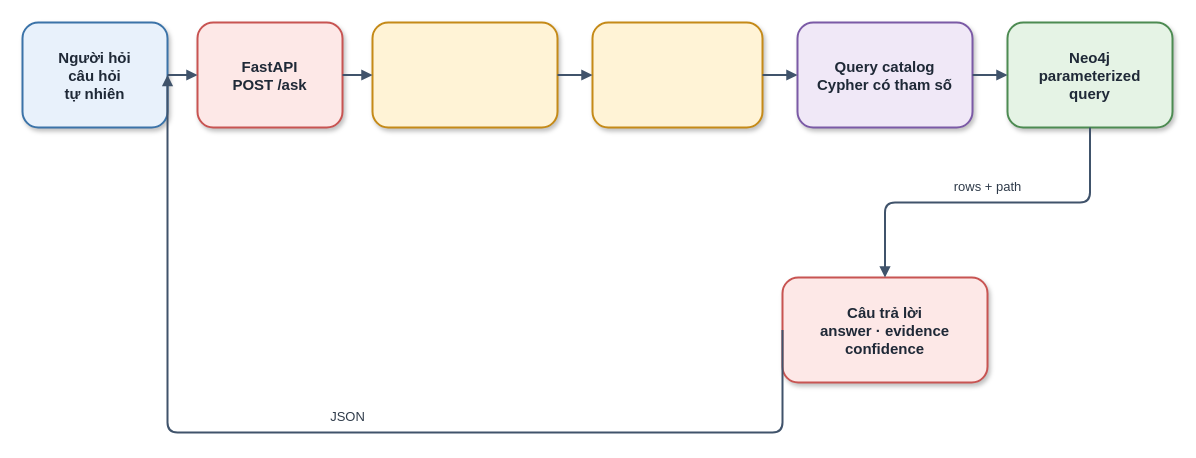
Some shapes in this 1196 by 458 pixel diagram are drawn without their labels. Each missing label, with the centre of its shape:
"Liên kết canonical entity" goes at pixel 678 76.
"Parser 9 intent cố định" goes at pixel 465 76.
